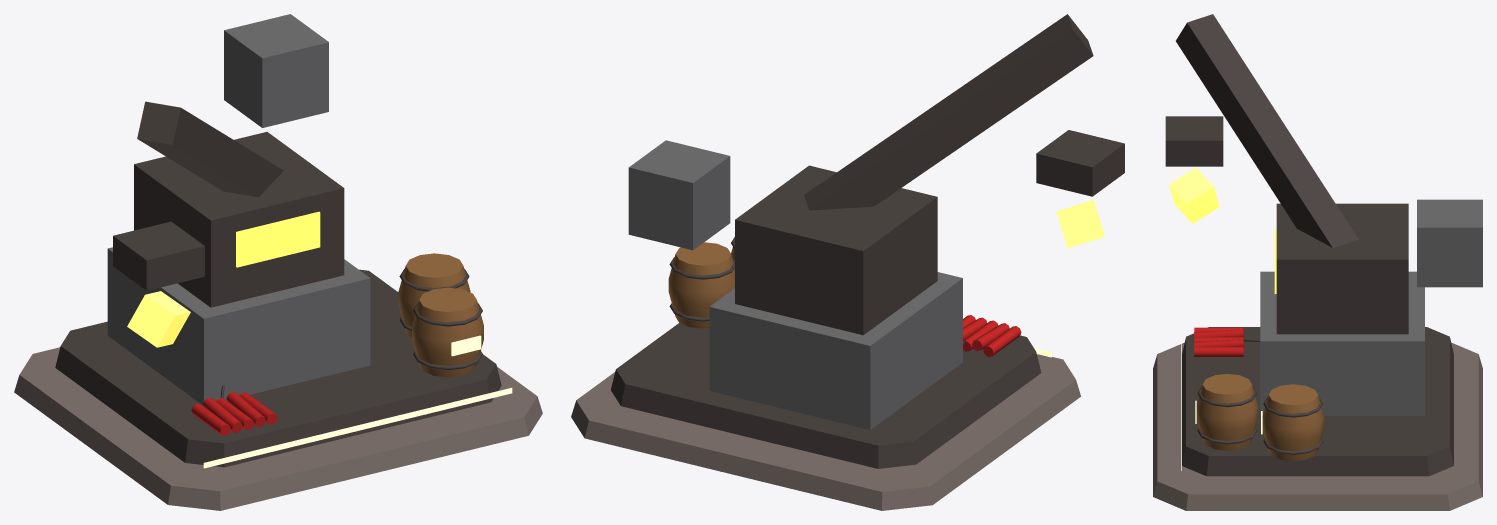
The model's file is BlastCraneDropper_Roblox.fbx.
The picture shows the model from 3 angles, left to right: view 1: azimuth 30°, elevation 25°; view 2: azimuth 150°, elevation 25°; view 3: azimuth 270°, elevation 25°; orthographic projection. The views are drawn at different scales.
Parts seen in each view (by area): view 1: DarkPlate, QuarryStone, SteelPlate, KegWood, CoreGlow, AccentNeon, DynamiteRed, Ore; view 2: DarkPlate, QuarryStone, SteelPlate, KegWood, DynamiteRed, Ore; view 3: DarkPlate, QuarryStone, SteelPlate, KegWood, Ore, DynamiteRed.
Part boxes in pixels (box(x1,y1,x2,y2)): DarkPlate: box(55, 101, 501, 467); QuarryStone: box(107, 14, 370, 405); SteelPlate: box(14, 347, 542, 510); KegWood: box(398, 253, 483, 377); CoreGlow: box(236, 211, 320, 267); AccentNeon: box(203, 335, 512, 468); DynamiteRed: box(191, 392, 277, 435); Ore: box(127, 291, 190, 347); DarkPlate: box(611, 14, 1124, 468); QuarryStone: box(628, 140, 962, 429); SteelPlate: box(571, 354, 1080, 510); KegWood: box(668, 240, 734, 328); DynamiteRed: box(963, 315, 1021, 357); Ore: box(1056, 200, 1104, 248); DarkPlate: box(1165, 14, 1453, 476); QuarryStone: box(1260, 199, 1482, 415); SteelPlate: box(1153, 342, 1482, 510); KegWood: box(1196, 374, 1324, 461); Ore: box(1169, 167, 1219, 223); DynamiteRed: box(1194, 327, 1243, 356).
Bounding box in the file's own units: 980 × 1033 × 800.
